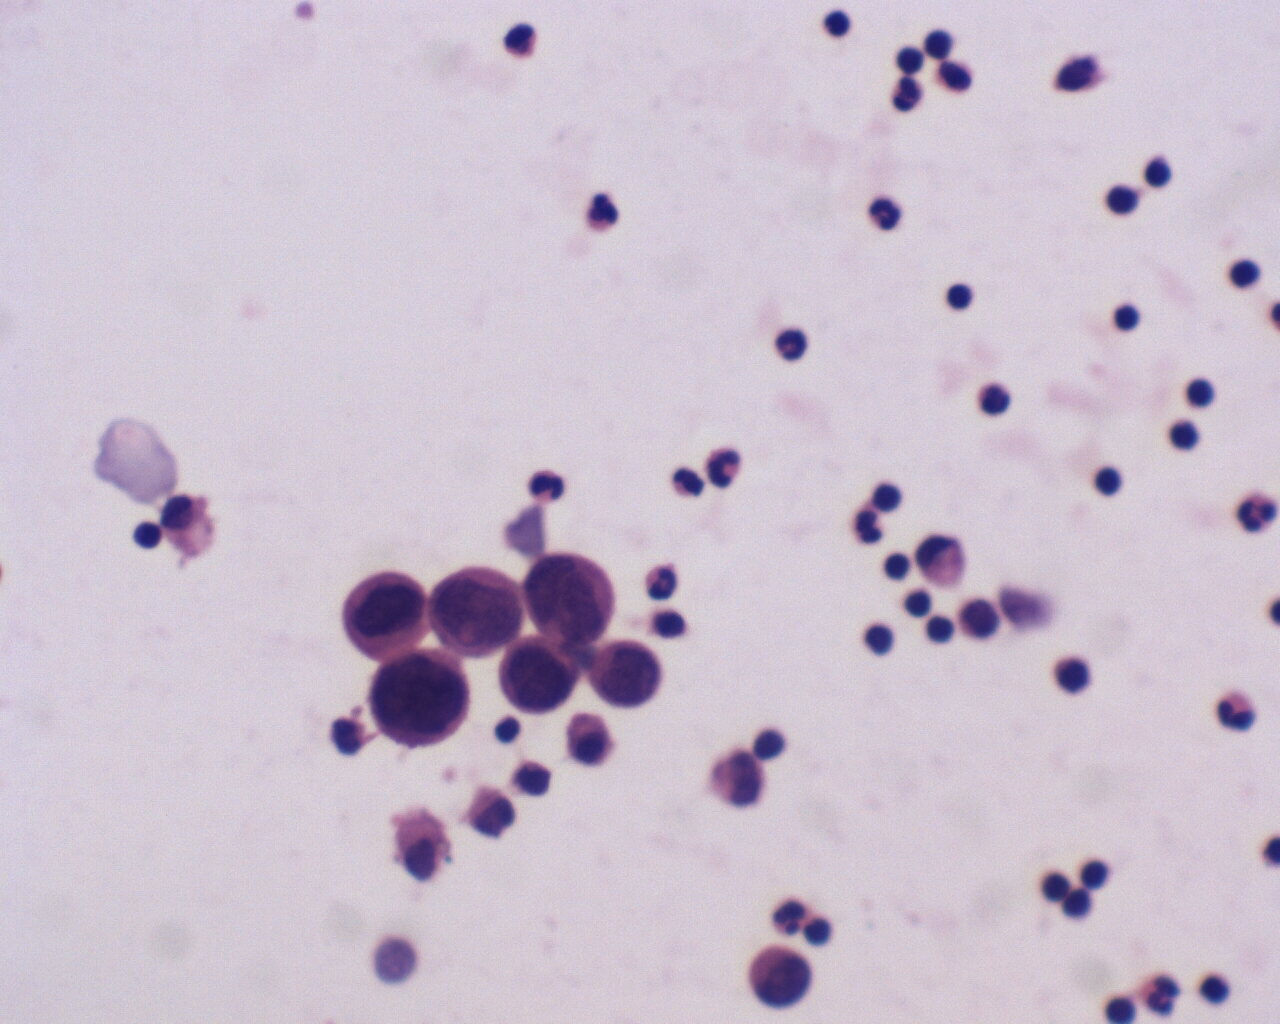ab: (366, 649, 468, 752), (424, 564, 529, 659), (519, 554, 616, 646), (340, 572, 433, 660), (497, 633, 578, 715), (583, 635, 665, 709), (747, 938, 813, 1010)
lymph: (1194, 969, 1239, 1009), (1085, 459, 1126, 502), (975, 378, 1017, 420), (1106, 173, 1140, 222), (1110, 297, 1147, 338), (864, 619, 900, 661), (942, 278, 980, 316), (872, 473, 907, 514), (130, 512, 162, 555)
neutro: (703, 443, 748, 492), (1211, 688, 1258, 734), (1235, 489, 1280, 537), (861, 189, 909, 233), (638, 557, 683, 602), (579, 189, 625, 233), (769, 894, 813, 939), (887, 74, 930, 117), (521, 465, 568, 504), (774, 322, 811, 362)
